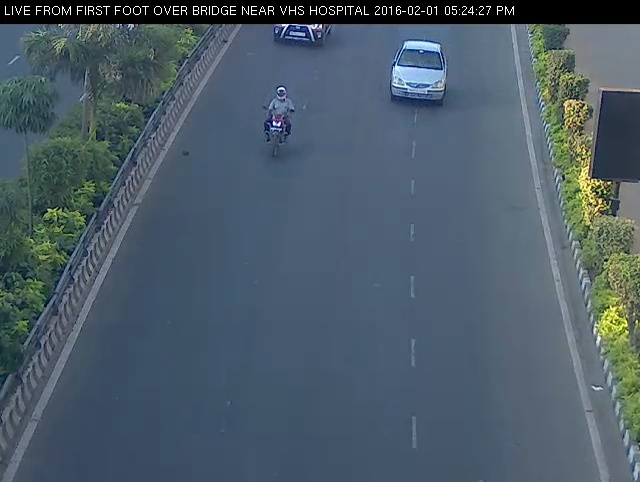Car: (383, 35, 453, 108), (260, 9, 335, 55)
Person: (260, 81, 297, 160)
